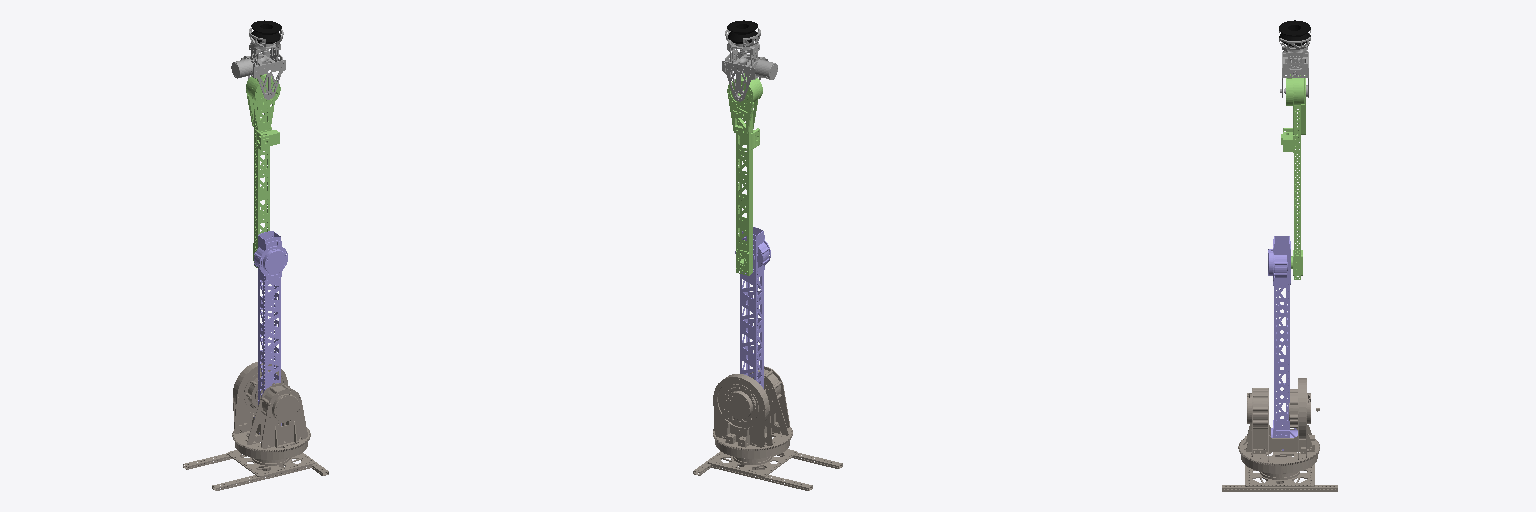
The robot description file, URDF, robot "robotic_arm":
<?xml version="1.0" encoding="utf-8"?>
<!-- This URDF was automatically created by SolidWorks to URDF Exporter! Originally created by Stephen Brawner (brawner@gmail.com) 
     Commit Version: 1.6.0-4-g7f85cfe  Build Version: 1.6.7995.38578
     For more information, please see http://wiki.ros.org/sw_urdf_exporter -->
<robot
  name="robotic_arm">
    <ros2_control name="arm_hw" type="system">
    <hardware>
      <plugin>mujoco_ros2_control/MujocoSystem</plugin>
    </hardware>

    <joint name="joint1">
      <command_interface name="effort"/>
      <state_interface name="position"/>
      <state_interface name="velocity"/>
      <state_interface name="effort"/>
    </joint>

    <joint name="joint2">
      <command_interface name="effort"/>
      <state_interface name="position"/>
      <state_interface name="velocity"/>
      <state_interface name="effort"/>
    </joint>

    <joint name="joint3">
      <command_interface name="effort"/>
      <state_interface name="position"/>
      <state_interface name="velocity"/>
      <state_interface name="effort"/>
    </joint>

    <joint name="joint4">
      <command_interface name="effort"/>
      <state_interface name="position"/>
      <state_interface name="velocity"/>
      <state_interface name="effort"/>
    </joint>

    <joint name="joint5">
      <command_interface name="effort"/>
      <state_interface name="position"/>
      <state_interface name="velocity"/>
      <state_interface name="effort"/>
    </joint>

    <joint name="joint6">
      <command_interface name="effort"/>
      <state_interface name="position"/>
      <state_interface name="velocity"/>
      <state_interface name="effort"/>
    </joint>
  </ros2_control>
  <link
    name="base_link">
    <inertial>
      <origin
        xyz="-0.00360621702328832 5.13965852572684E-05 -0.00437548460570378"
        rpy="0 0 0" />
      <mass
        value="0.905716018714615" />
      <inertia
        ixx="0.00107148927922179"
        ixy="2.76094582641941E-06"
        ixz="-5.48596189361244E-07"
        iyy="0.00144104333999584"
        iyz="2.22549999381976E-07"
        izz="0.00244792600293045" />
    </inertial>
    <visual>
      <origin
        xyz="0 0 0"
        rpy="0 0 0" />
      <geometry>
        <mesh
          filename="package://arm/model/base_link.STL" />
      </geometry>
      <material
        name="">
        <color
          rgba="0.650980392156863 0.619607843137255 0.588235294117647 1" />
      </material>
    </visual>
    <collision>
      <origin
        xyz="0 0 0"
        rpy="0 0 0" />
      <geometry>
        <mesh
          filename="package://arm/model/base_link.STL" />
      </geometry>
    </collision>
  </link>
  <link
    name="link1">
    <inertial>
      <origin
        xyz="-0.000108374983294121 -0.0224173657123978 0.0295694936286941"
        rpy="0 0 0" />
      <mass
        value="1.91180538368796" />
      <inertia
        ixx="0.00130826953517784"
        ixy="1.3668660920291E-06"
        ixz="1.38971343647627E-05"
        iyy="0.00190867031535885"
        iyz="1.26824657951645E-06"
        izz="0.00177080127699075" />
    </inertial>
    <visual>
      <origin
        xyz="0 0 0"
        rpy="0 0 0" />
      <geometry>
        <mesh
          filename="package://arm/model/link1.STL" />
      </geometry>
      <material
        name="">
        <color
          rgba="0.650980392156863 0.619607843137255 0.588235294117647 1" />
      </material>
    </visual>
    <collision>
      <origin
        xyz="0 0 0"
        rpy="0 0 0" />
      <geometry>
        <mesh
          filename="package://arm/model/link1.STL" />
      </geometry>
    </collision>
  </link>
  <joint
    name="joint1"
    type="continuous">
    <origin
      xyz="6.34132927793407E-05 -0.00167405073291106 0.0278500000000087"
      rpy="0 0 0" />
    <parent
      link="base_link" />
    <child
      link="link1" />
    <axis
      xyz="0 0 -1" />
    <limit
      lower="-3.14"
      upper="3.14"
      effort="50"
      velocity="10" />
  </joint>
  <link
    name="link2">
    <inertial>
      <origin
        xyz="0.375032807584103 -0.00767142856848219 -0.0148750517361231"
        rpy="0 0 0" />
      <mass
        value="1.09233144358037" />
      <inertia
        ixx="0.000562645054167591"
        ixy="4.6355173743639E-07"
        ixz="-5.41332728898313E-05"
        iyy="0.00825256907491947"
        iyz="-1.2040814647427E-06"
        izz="0.00858584566040506" />
    </inertial>
    <visual>
      <origin
        xyz="0 0 0"
        rpy="0 0 0" />
      <geometry>
        <mesh
          filename="package://arm/model/link2.STL" />
      </geometry>
      <material
        name="">
        <color
          rgba="0.701960784313725 0.670588235294118 0.933333333333333 1" />
      </material>
    </visual>
    <collision>
      <origin
        xyz="0 0 0"
        rpy="0 0 0" />
      <geometry>
        <mesh
          filename="package://arm/model/link2.STL" />
      </geometry>
    </collision>
  </link>
  <joint
    name="joint2"
    type="revolute">
    <origin
      xyz="0.00565491862295636 0.0185517283813911 0.0710733482199691"
      rpy="-1.5707963267949 -1.5708 0" />
    <parent
      link="link1" />
    <child
      link="link2" />
    <axis
      xyz="0 0 -1" />
    <limit
      lower="-1.57"
      upper="1.57"
      effort="50"
      velocity="10" />
  </joint>
  <link
    name="link3">
    <inertial>
      <origin
        xyz="0.396708620293581 -0.0009580050394698 0.0146574939500043"
        rpy="0 0 0" />
      <mass
        value="0.750870225721497" />
      <inertia
        ixx="0.000311759468382739"
        ixy="-4.43262109210123E-06"
        ixz="2.95134858752333E-06"
        iyy="0.00280789973164969"
        iyz="-6.86575257856084E-07"
        izz="0.00305821466409237" />
    </inertial>
    <visual>
      <origin
        xyz="0 0 0"
        rpy="0 0 0" />
      <geometry>
        <mesh
          filename="package://arm/model/link3.STL" />
      </geometry>
      <material
        name="">
        <color
          rgba="0.647058823529412 0.854901960784314 0.533333333333333 1" />
      </material>
    </visual>
    <collision>
      <origin
        xyz="0 0 0"
        rpy="0 0 0" />
      <geometry>
        <mesh
          filename="package://arm/model/link3.STL" />
      </geometry>
    </collision>
  </link>
  <joint
    name="joint3"
    type="revolute">
    <origin
      xyz="0.500001547205985 -0.00750000000003981 0.0418960557056171"
      rpy="3.14159265358979 0 0" />
    <parent
      link="link2" />
    <child
      link="link3" />
    <axis
      xyz="0 0 -1" />
    <limit
      lower="-2.8"
      upper="2.8"
      effort="50"
      velocity="10" />
  </joint>
  <link
    name="link4">
    <inertial>
      <origin
        xyz="0.0388635088998436 0.0683350036809159 -0.0302743627631186"
        rpy="0 0 0" />
      <mass
        value="0.328855136025888" />
      <inertia
        ixx="0.000130515381077466"
        ixy="-1.58524988603632E-07"
        ixz="2.47556859422373E-07"
        iyy="8.67316206395657E-05"
        iyz="-5.55843117742173E-08"
        izz="0.000124148178178434" />
    </inertial>
    <visual>
      <origin
        xyz="0 0 0"
        rpy="0 0 0" />
      <geometry>
        <mesh
          filename="package://arm/model/link4.STL" />
      </geometry>
      <material
        name="">
        <color
          rgba="0.698039215686274 0.698039215686274 0.698039215686274 1" />
      </material>
    </visual>
    <collision>
      <origin
        xyz="0 0 0"
        rpy="0 0 0" />
      <geometry>
        <mesh
          filename="package://arm/model/link4.STL" />
      </geometry>
    </collision>
  </link>
  <joint
    name="joint4"
    type="revolute">
    <origin
      xyz="0.493372719987381 -0.000717203264851807 -0.0115"
      rpy="3.14159265358979 0 1.5708" />
    <parent
      link="link3" />
    <child
      link="link4" />
    <axis
      xyz="0 0 -1" />
    <limit
      lower="-1.82"
      upper="1.92"
      effort="100"
      velocity="1" />
  </joint>
  <link
    name="link5">
    <inertial>
      <origin
        xyz="0.0409963218118283 -0.000737375741447381 -0.0449408930326747"
        rpy="0 0 0" />
      <mass
        value="0.107863966418761" />
      <inertia
        ixx="2.27221737578051E-05"
        ixy="2.69721515117386E-08"
        ixz="5.25283476817911E-07"
        iyy="2.42204415320291E-05"
        iyz="5.16755491617417E-09"
        izz="3.18656466025932E-05" />
    </inertial>
    <visual>
      <origin
        xyz="0 0 0"
        rpy="0 0 0" />
      <geometry>
        <mesh
          filename="package://arm/model/link5.STL" />
      </geometry>
      <material
        name="">
        <color
          rgba="0.698039215686274 0.698039215686274 0.698039215686274 1" />
      </material>
    </visual>
    <collision>
      <origin
        xyz="0 0 0"
        rpy="0 0 0" />
      <geometry>
        <mesh
          filename="package://arm/model/link5.STL" />
      </geometry>
    </collision>
  </link>
  <joint
    name="joint5"
    type="revolute">
    <origin
      xyz="0.0420000017681742 0.0760000060786439 -0.0298499999999999"
      rpy="1.5707963267949 0 1.5708" />
    <parent
      link="link4" />
    <child
      link="link5" />
    <axis
      xyz="-0.0571545044239792 0 0.998365345263972" />
    <limit
      lower="-0.4"
      upper="0.4"
      effort="50"
      velocity="10" />
  </joint>
  <link
    name="link6">
    <inertial>
      <origin
        xyz="3.46944695195361E-18 -1.17961196366423E-16 0.0196990985019004"
        rpy="0 0 0" />
      <mass
        value="0.150213928644987" />
      <inertia
        ixx="7.59512548879523E-05"
        ixy="6.71670657393058E-21"
        ixz="-1.05879118406788E-20"
        iyy="7.59512548879523E-05"
        iyz="-2.26088313745444E-19"
        izz="0.00011238690149753" />
    </inertial>
    <visual>
      <origin
        xyz="0 0 0"
        rpy="0 0 0" />
      <geometry>
        <mesh
          filename="package://arm/model/link6.STL" />
      </geometry>
      <material
        name="">
        <color
          rgba="0.113725490196078 0.113725490196078 0.113725490196078 1" />
      </material>
    </visual>
    <collision>
      <origin
        xyz="0 0 0"
        rpy="0 0 0" />
      <geometry>
        <mesh
          filename="package://arm/model/link6.STL" />
      </geometry>
    </collision>
  </link>
  <joint
    name="joint6"
    type="revolute">
    <origin
      xyz="0.109242825291171 -0.00191951430536242 -0.0510772149208419"
      rpy="0.0171393597075962 1.51361065936655 3.14159265358978" />
    <parent
      link="link5" />
    <child
      link="link6" />
    <axis
      xyz="0 0 1" />
    <limit
      lower="-3.14"
      upper="3.14"
      effort="50"
      velocity="10" />
  </joint>
</robot>

--- What the picture shows (computed from the rendered views, not written in the file) ---
Views: 3 orthographic renders of the robot side by side, from view 1: azimuth 30°, elevation 25°; view 2: azimuth 150°, elevation 25°; view 3: azimuth 270°, elevation 25°.
Robot: robotic_arm — 7 links, 6 joints (5 revolute, 1 continuous); root link base_link; default pose: all joints at 0.
Visible links, largest first — view 1: link1, link2, link3, base_link, link4, link5, link6; view 2: link1, link3, link2, base_link, link4, link5, link6; view 3: link1, link2, link3, base_link, link4, link6.
Link boxes in pixels (x1,y1,x2,y2): link1: [232, 362, 310, 459]; link2: [254, 231, 287, 433]; link3: [246, 74, 280, 267]; base_link: [183, 441, 328, 490]; link4: [231, 50, 285, 99]; link5: [249, 28, 283, 64]; link6: [251, 20, 281, 43]; link1: [713, 366, 792, 458]; link3: [727, 73, 762, 275]; link2: [735, 227, 770, 388]; base_link: [693, 449, 842, 490]; link4: [722, 50, 777, 101]; link5: [725, 28, 760, 65]; link6: [727, 20, 758, 43]; link1: [1238, 378, 1319, 473]; link2: [1268, 236, 1297, 450]; link3: [1281, 74, 1305, 279]; base_link: [1222, 436, 1337, 491]; link4: [1280, 50, 1308, 97]; link6: [1279, 20, 1310, 46].
Bounding box of the posed robot: 0.3315 × 0.3 × 1.31 m (x, y, z).
Meshes: 7 distinct files referenced, 7 mesh visuals loaded (7 binary STL).
